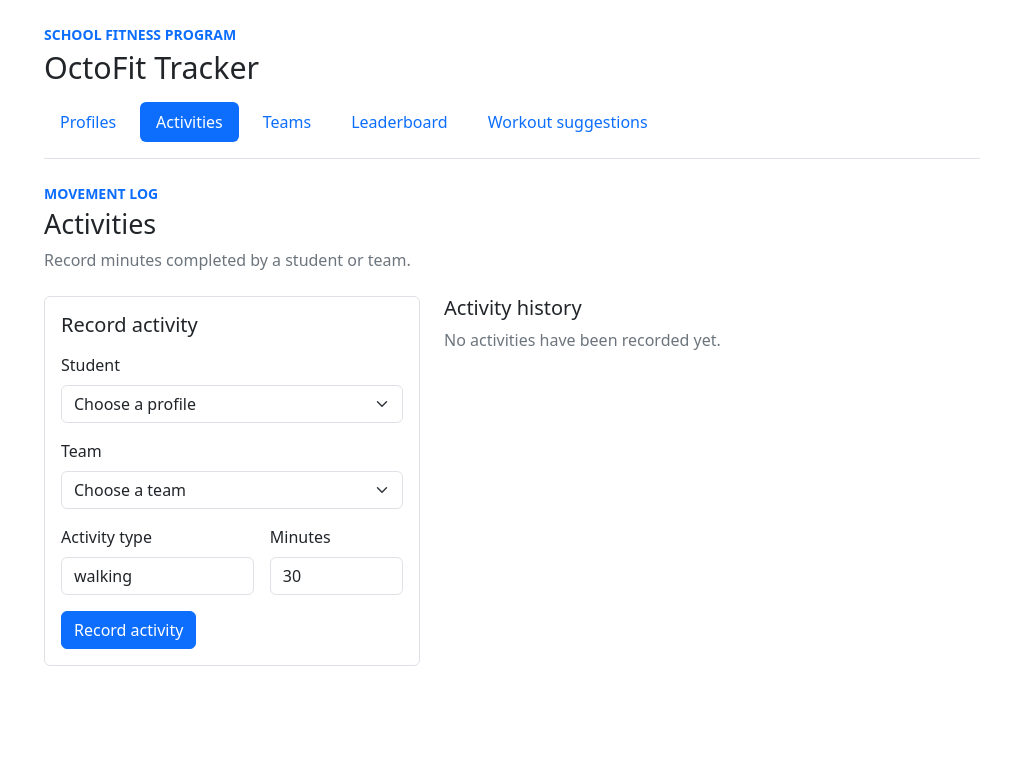
Test case: OctoFit feature interactions › submits the selected profile, team, activity, and duration
The width and height of the screenshot is (1024, 768).
Step 1. Select "Mona (mona@example.com)" in the dropdown labelled "Student" → (232, 404), box x1=61 y1=385 x2=403 y2=423
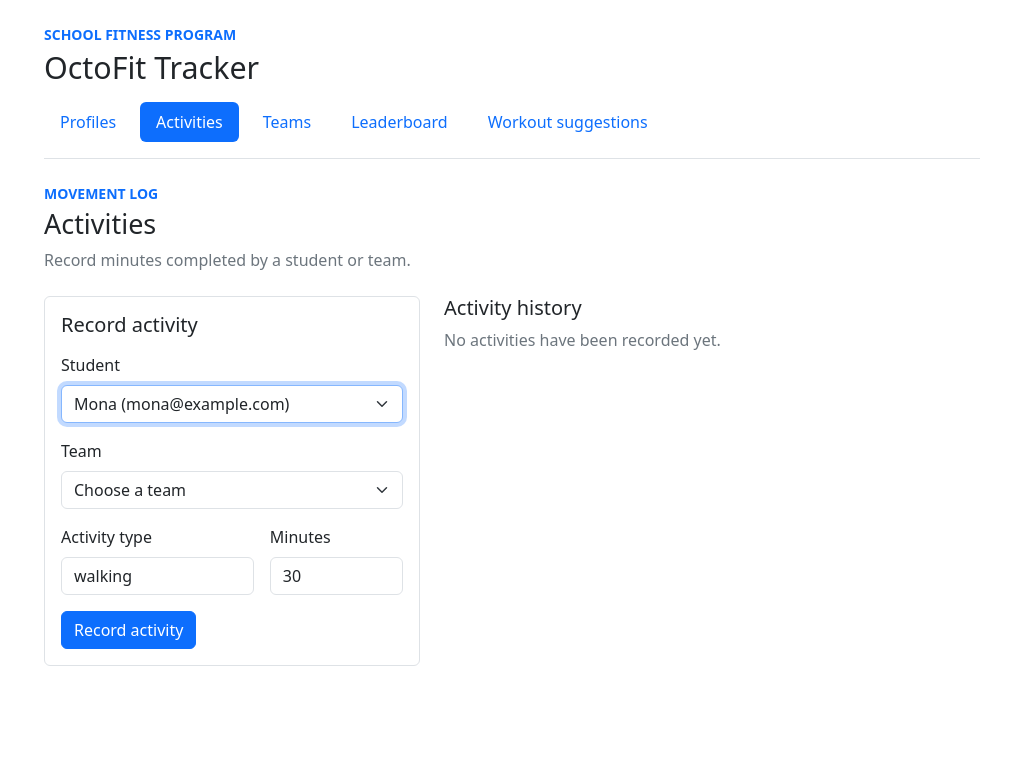
Step 2. Select "Octocats" in the dropdown labelled "Team" → (232, 490), box x1=61 y1=471 x2=403 y2=509
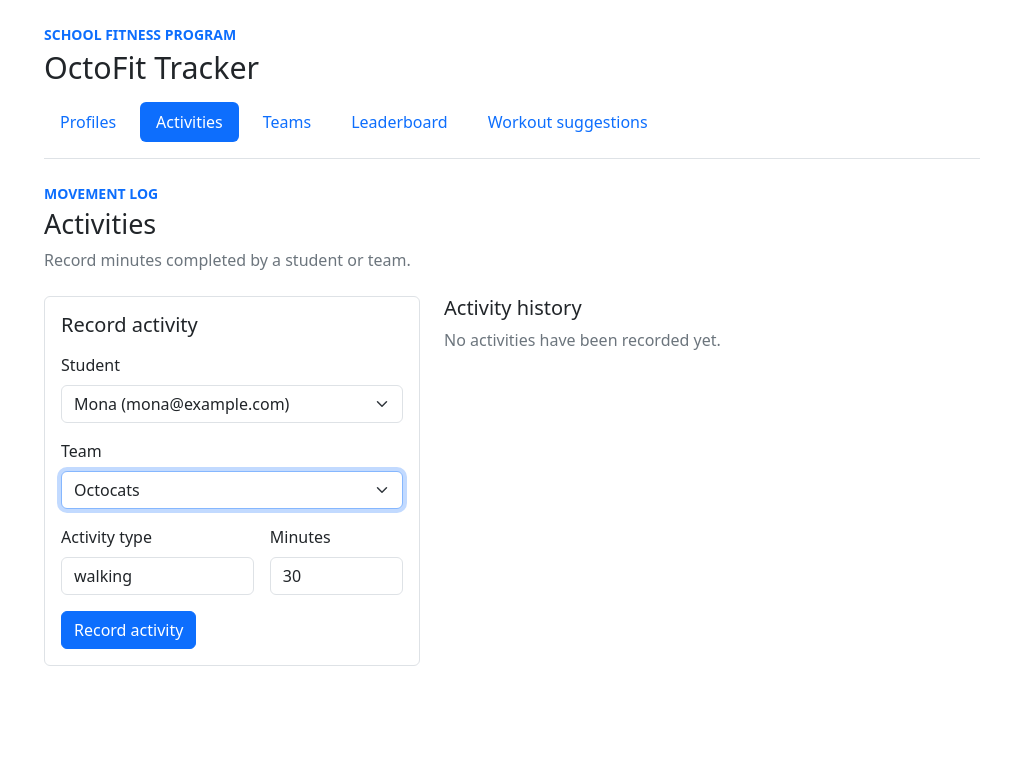
Step 3. Replace the text in the field labelled "Activity type" with "run" → (157, 576), box x1=61 y1=557 x2=254 y2=595
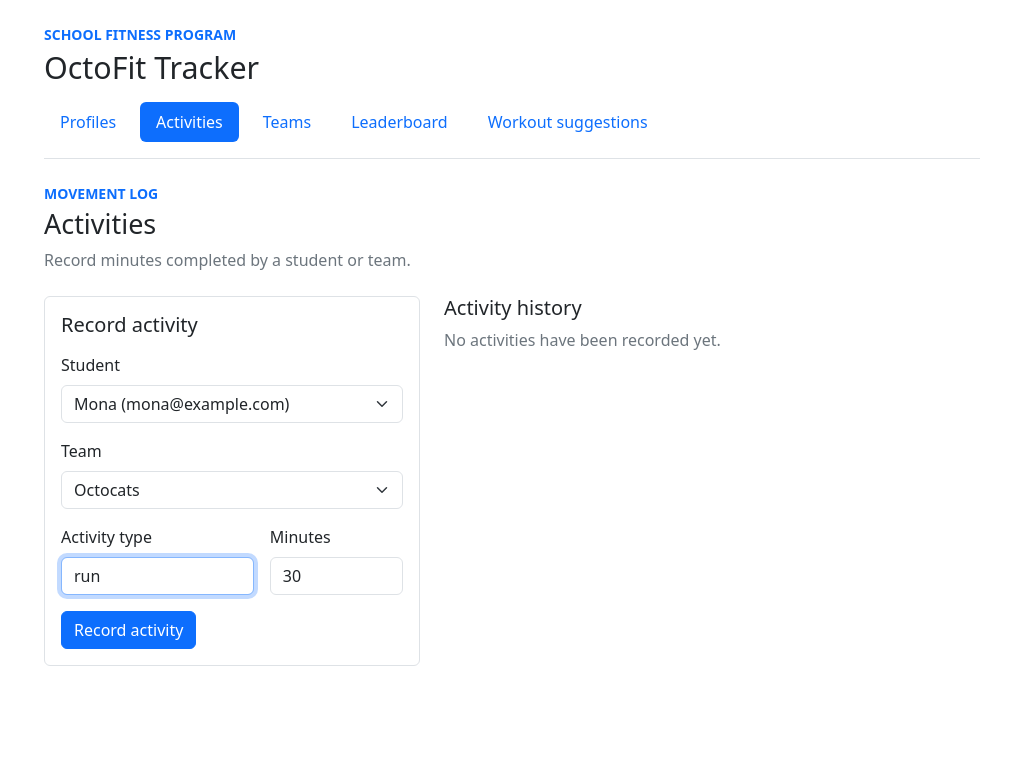
Step 4. Replace the text in the number field labelled "Minutes" with "45" → (336, 576), box x1=270 y1=557 x2=403 y2=595
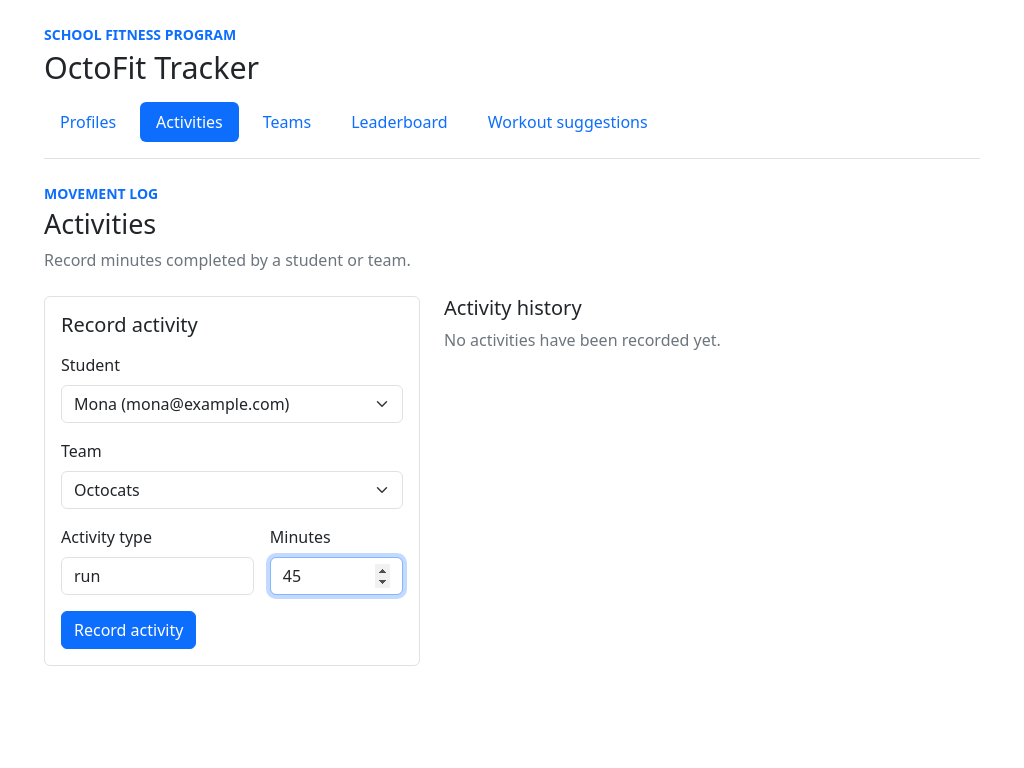
Step 5. Click the button "Record activity" → (129, 630), box x1=61 y1=611 x2=196 y2=649
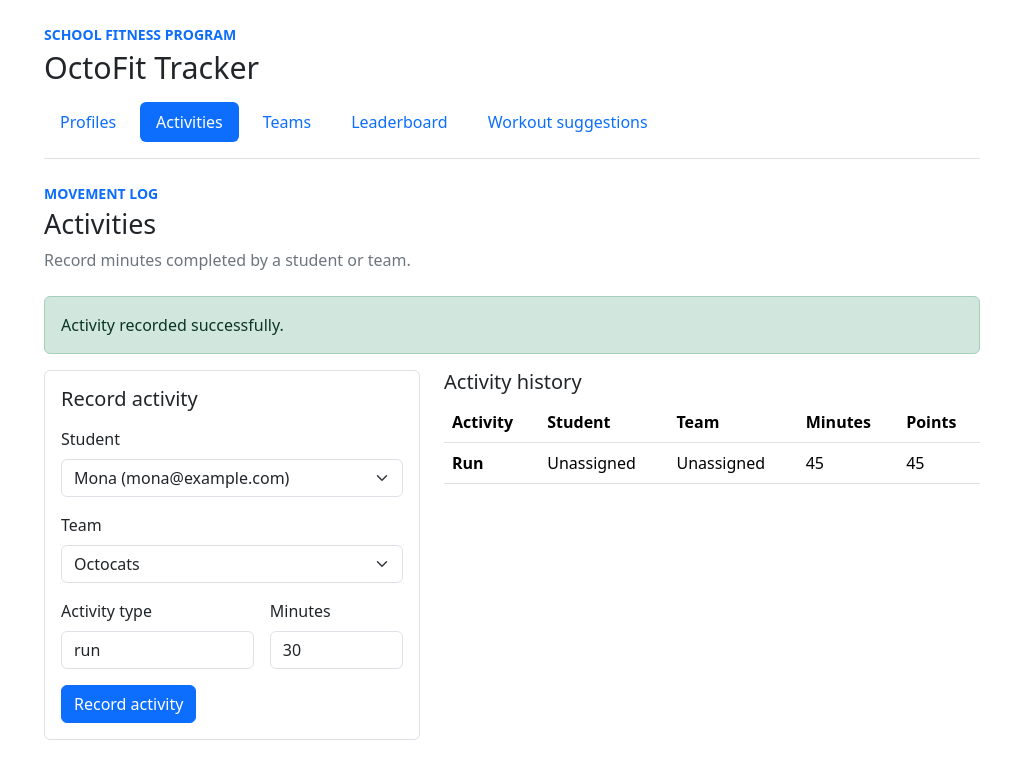
Expected: the message shows "recorded successfully", x1=61 y1=314 x2=284 y2=336
